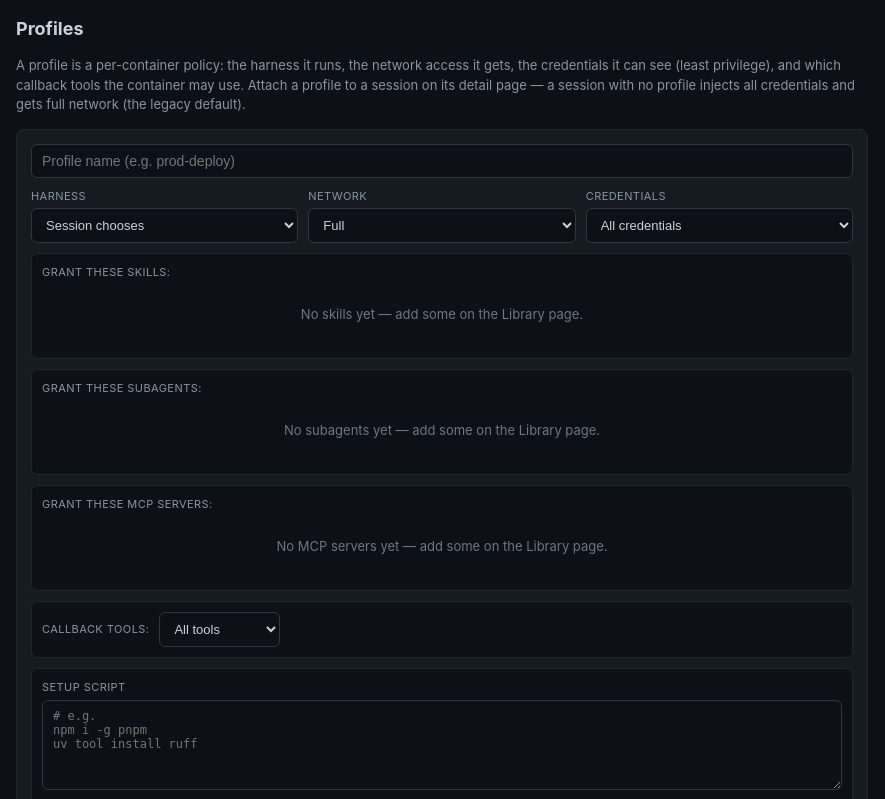
Test: Profiles observer settings › shows an observer save error and stays on the saved profile
The image size is (885, 799).
Type "bad" into the field labelled "Profile name" at (442, 160), box left=31, top=144, right=853, bottom=178
(page scrolled)
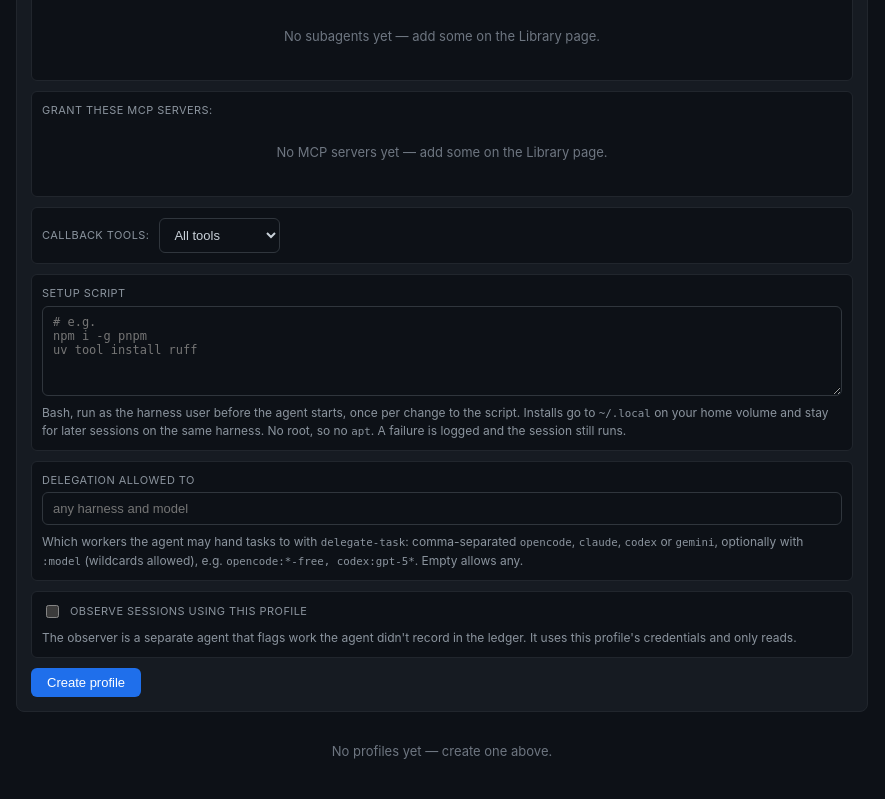
Click the button "Create profile" at (86, 682), box left=31, top=668, right=141, bottom=697
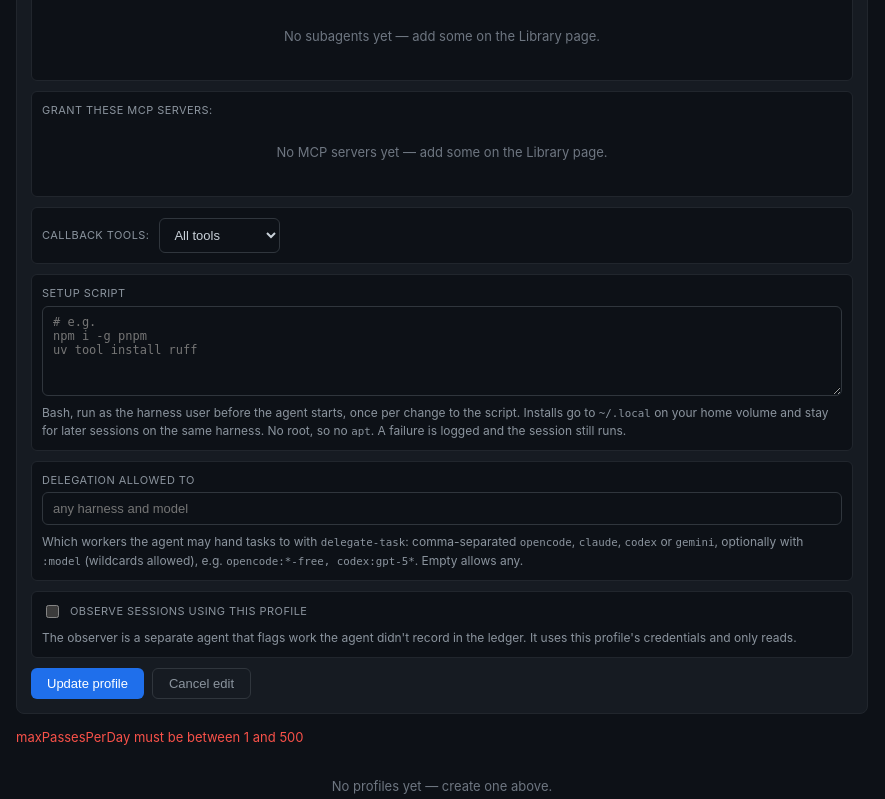
Expected: the text "maxPassesPerDay must be between 1 and 500" is shown, left=16, top=729, right=304, bottom=745
Expected: the button "Update profile" is shown, left=31, top=668, right=144, bottom=699
